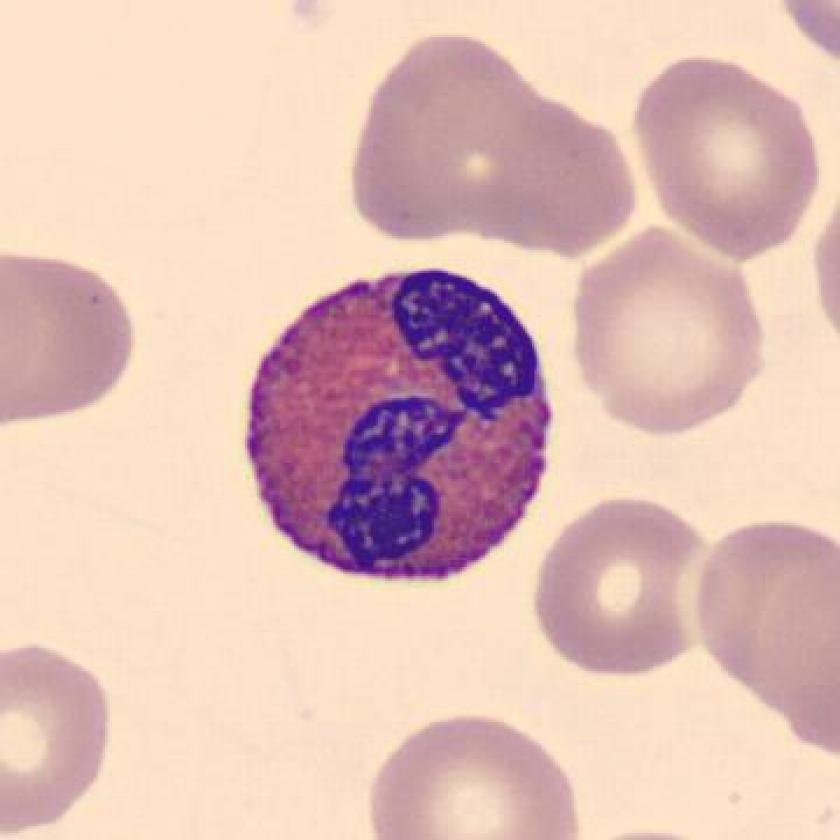eosinophil: (232, 249, 566, 603)
